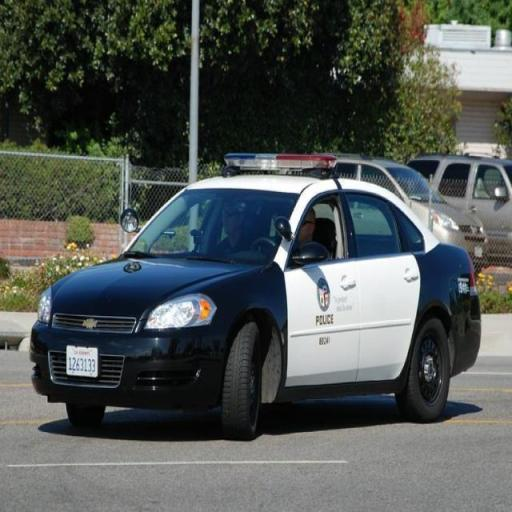Ambulance: (33, 153, 478, 423), (417, 147, 512, 249)
